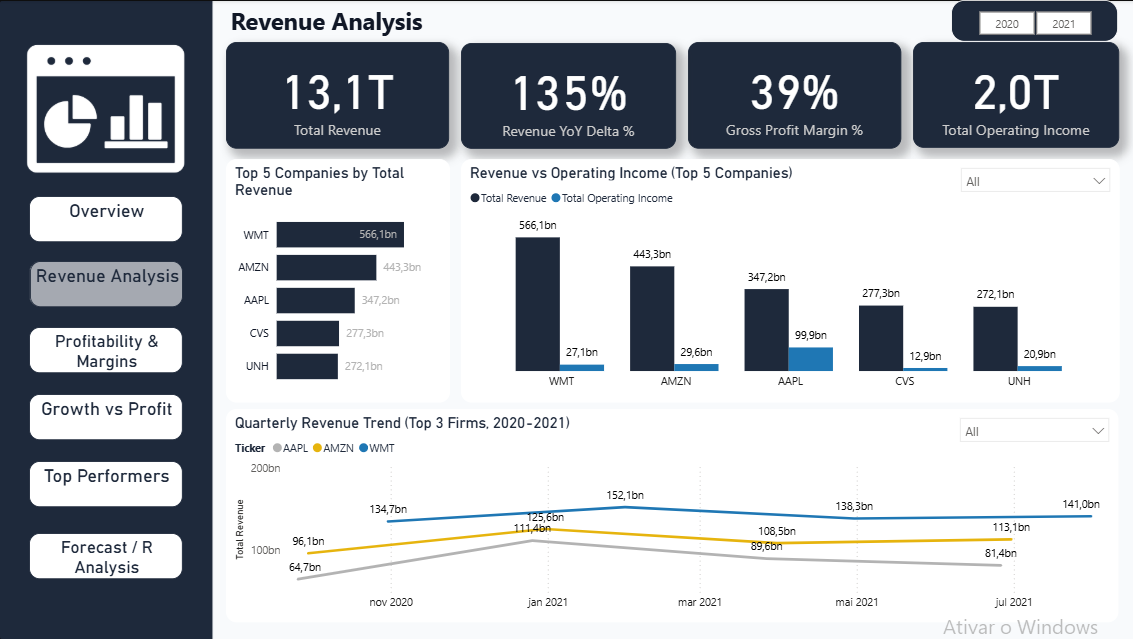

What the dashboard file says about the page in this screenshot:
{"tool":"powerbi","page":{"name":"Revenue Analysis","canvas":[1280,720],"ordinal":1},"visuals":[{"type":"card","title":"Top 10 YoY Revenue Growth","fields":{"Values":["#Measures.Total Revenue"]},"box":[255.4,47.2,250.9,120.4],"z":0},{"type":"card","title":"Top 10 YoY Revenue Growth","fields":{"Values":["#Measures.Gross Profit Margin %"]},"box":[774.9,47.2,240,120.4],"z":1000},{"type":"card","title":"Top 10 YoY Revenue Growth","fields":{"Values":["#Measures.Operating Income"]},"box":[1028.2,47.2,231.8,119.2],"z":2000},{"type":"actionButton","title":"Revenue Analysis","box":[34.5,293.8,172.4,52.4],"z":2000,"group":"g1"},{"type":"card","title":"Top 10 YoY Revenue Growth","fields":{"Values":["#Measures.Revenue YoY Delta %"]},"box":[519.6,48.4,241.9,119.2],"z":3000},{"type":"actionButton","title":"Forecast / R Analysis","box":[33.8,599.6,173.2,51.8],"z":4000},{"type":"actionButton","title":"Top Performers","box":[33.8,518.6,173.2,51.8],"z":5000},{"type":"actionButton","title":"Growth vs Profit","box":[33.8,443.2,173.2,51.8],"z":6000},{"type":"actionButton","title":"Profitability & Margins","box":[33.8,367.9,173.2,51.8],"z":7000},{"type":"actionButton","title":"Revenue Analysis","box":[33.8,293.6,173.2,51.8],"z":8000},{"type":"actionButton","title":"Overview","box":[33.8,220.5,173.2,51.8],"z":9000},{"type":"group","id":"g1","title":"Active Buttons","box":[33.5,220.5,173.4,430.6],"z":10000},{"type":"lineChart","title":"Quarterly Revenue Trend (Top 3 Firms, 2020-2021)","fields":{"Y":["#Measures.Total Revenue"],"Series":["FinancialData.Ticker"],"Category":["DimCalendar.Date.Variation.Date Hierarchy.Quarter"]},"box":[255.1,460.5,1004.1,240.1],"z":11000},{"type":"clusteredBarChart","title":"Top 5 Companies by Total Revenue","fields":{"Y":["#Measures.Total Revenue"],"Category":["FinancialData.Ticker"]},"box":[255.1,178.9,251.6,273.5],"z":12000},{"type":"clusteredColumnChart","title":"Revenue vs Operating Income (Top 5 Companies)","fields":{"Category":["FinancialData.Ticker"],"Y":["#Measures.Total Revenue","#Measures.Total Operating Income"]},"box":[519.4,178.9,741,273.5],"z":13000},{"type":"textbox","box":[255.1,0,300.1,65.8],"z":14000},{"type":"slicer","fields":{"Values":["FinancialData.Ticker"]},"box":[1072.2,178.9,188.1,49.6],"z":15000},{"type":"slicer","fields":{"Values":["DimCalendar.Year"]},"box":[1071.1,0,188.1,47.3],"z":16000},{"type":"slicer","fields":{"Values":["FinancialData.Ticker"]},"box":[1071.1,460.5,188.1,49.6],"z":17000}]}

Visuals, with their boxes on the page's 1280x720 design canvas (x1, y1, x2, y2). These are canvas units, not pixel positions in the 1133x639 screenshot, which may show the page scaled, cropped or inside an application window:
"Top 10 YoY Revenue Growth" card: left=255, top=47, right=506, bottom=168
"Top 10 YoY Revenue Growth" card: left=775, top=47, right=1015, bottom=168
"Top 10 YoY Revenue Growth" card: left=1028, top=47, right=1260, bottom=166
"Revenue Analysis" actionButton: left=34, top=294, right=207, bottom=346
"Top 10 YoY Revenue Growth" card: left=520, top=48, right=762, bottom=168
"Forecast / R Analysis" actionButton: left=34, top=600, right=207, bottom=651
"Top Performers" actionButton: left=34, top=519, right=207, bottom=570
"Growth vs Profit" actionButton: left=34, top=443, right=207, bottom=495
"Profitability & Margins" actionButton: left=34, top=368, right=207, bottom=420
"Revenue Analysis" actionButton: left=34, top=294, right=207, bottom=345
"Overview" actionButton: left=34, top=220, right=207, bottom=272
"Active Buttons" group: left=34, top=220, right=207, bottom=651
"Quarterly Revenue Trend (Top 3 Firms, 2020-2021)" lineChart: left=255, top=460, right=1259, bottom=701
"Top 5 Companies by Total Revenue" clusteredBarChart: left=255, top=179, right=507, bottom=452
"Revenue vs Operating Income (Top 5 Companies)" clusteredColumnChart: left=519, top=179, right=1260, bottom=452
textbox: left=255, top=0, right=555, bottom=66
slicer - FinancialData.Ticker: left=1072, top=179, right=1260, bottom=228
slicer - DimCalendar.Year: left=1071, top=0, right=1259, bottom=47
slicer - FinancialData.Ticker: left=1071, top=460, right=1259, bottom=510
